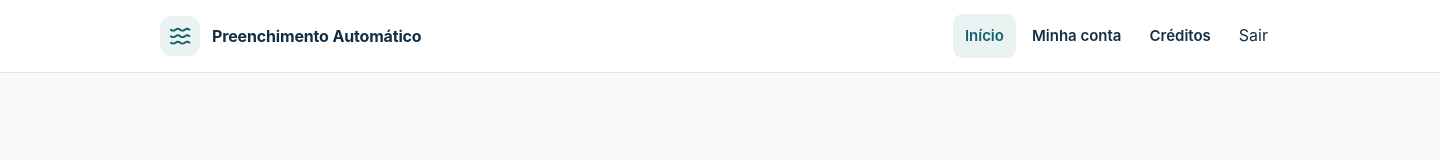
Test: AppHeader › substitui Entrar por Minha conta e Sair quando autenticado
Expected: the link "Minha conta" is shown, [1032,26,1121,45]
Expected: the link "Entrar" is not shown
Click the button "Sair" at point(1253, 36), box [1227,14,1280,58]
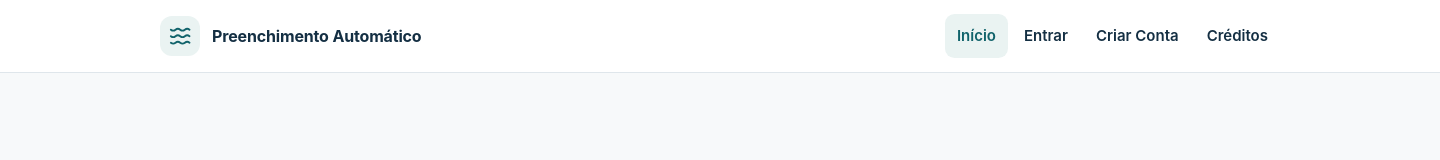
Expected: the link "Entrar" is shown, [1024,26,1068,45]
Expected: the link "Criar Conta" is shown, [1096,26,1179,45]
Expected: the link "Minha conta" is gone
